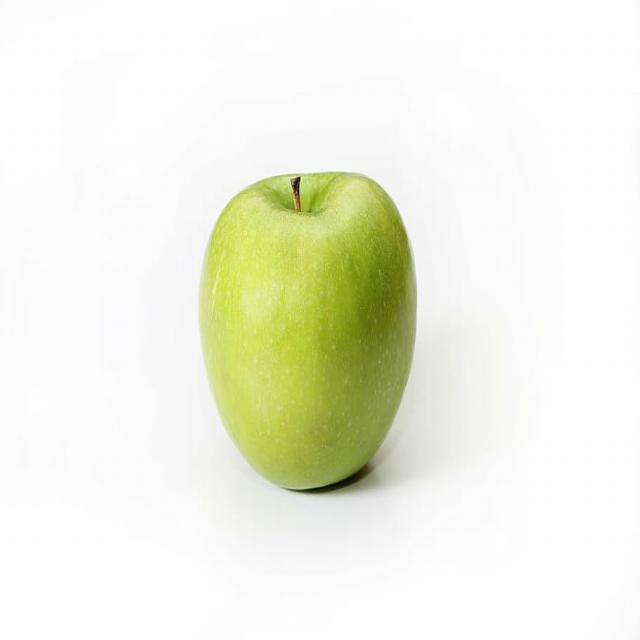Fresh Apple: (207, 176, 414, 480)
